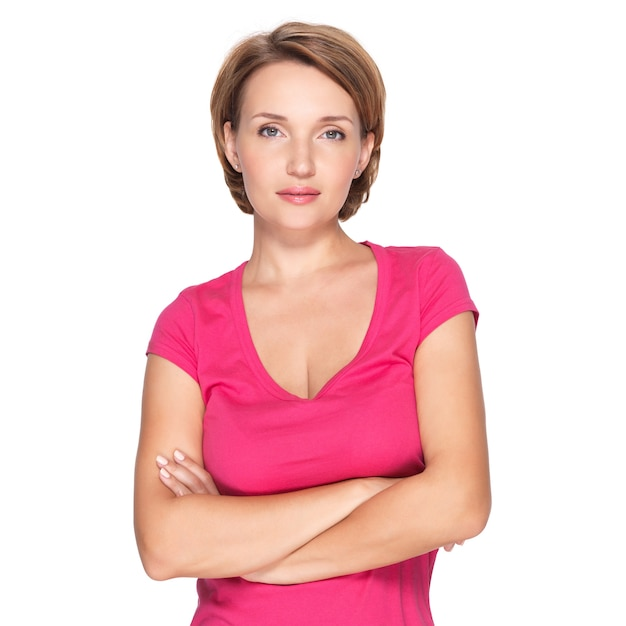young: (203, 15, 400, 234)
